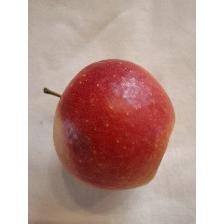Apfel: (43, 58, 176, 194)
